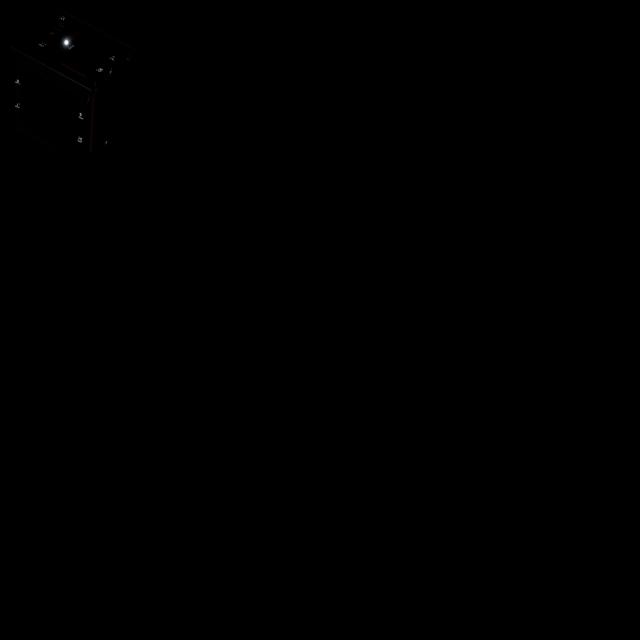medium_debris: (9, 17, 132, 175)
